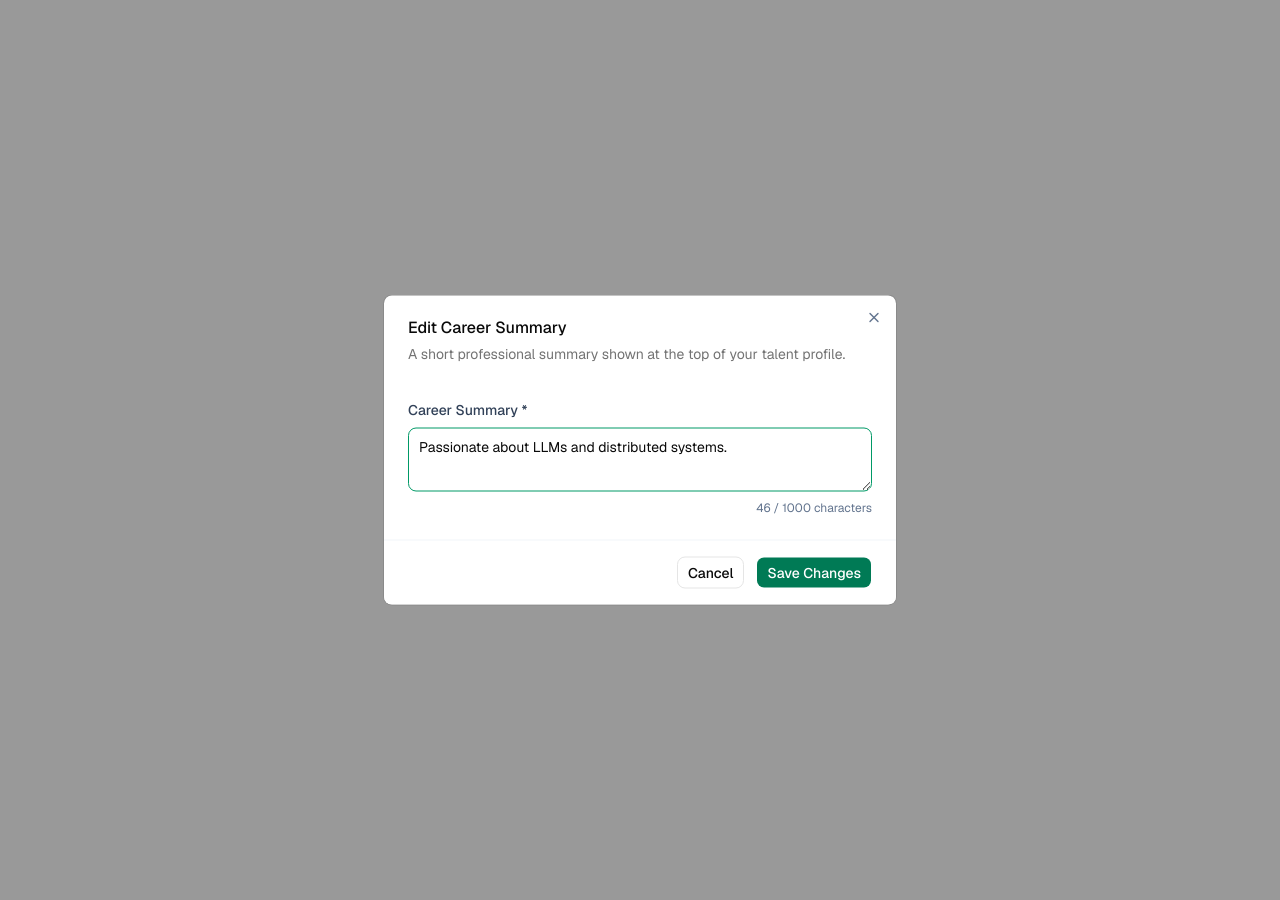
Test: EditCareerSummaryDialog › updates character counter as user types
The width and height of the screenshot is (1280, 900).
Replace the text in the text box labelled "Career Summary *" with "New bio content". click: (640, 460)
box: [408,428,872,492]
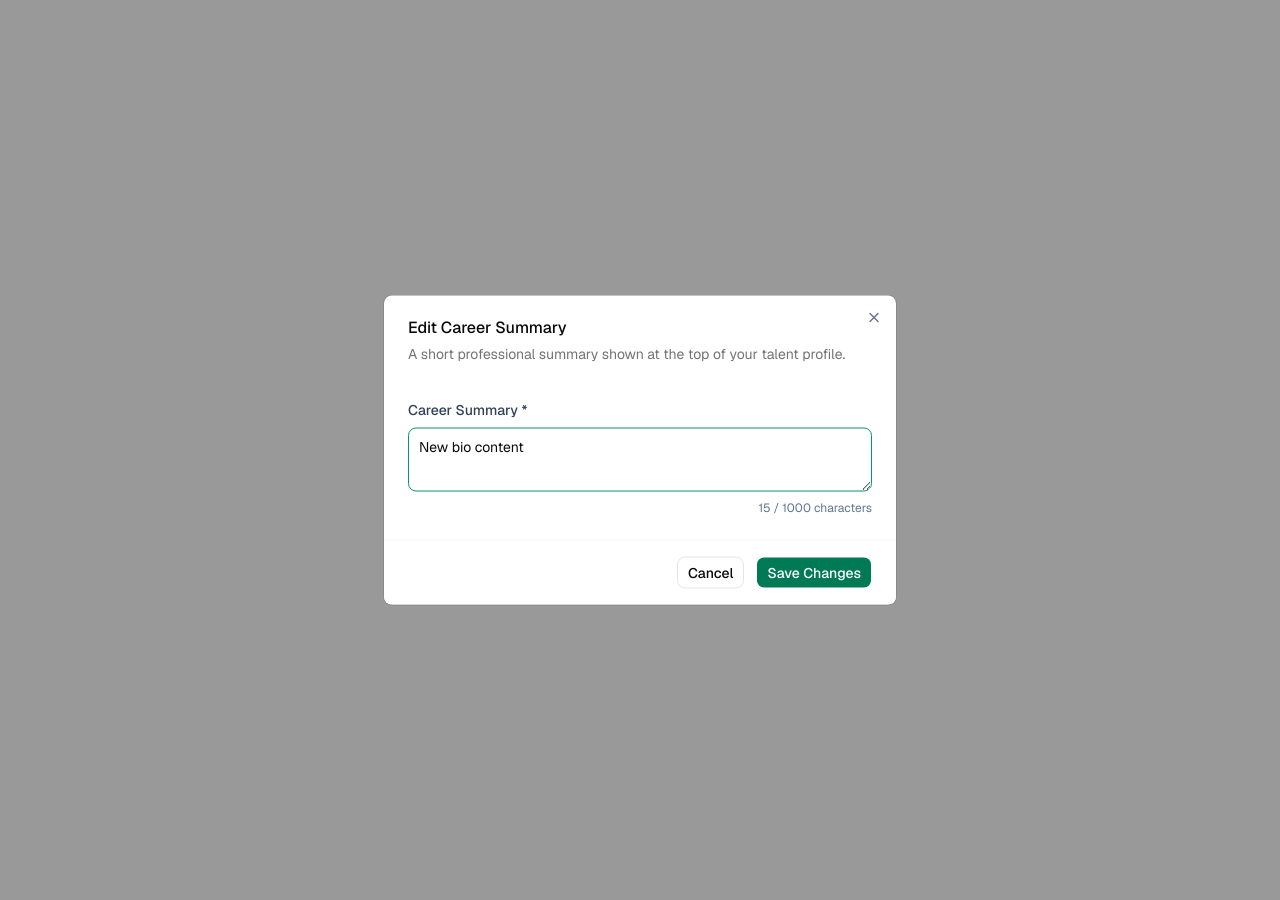
Expected: the text "15 / 1000 characters" is shown, [758,500,872,516]
